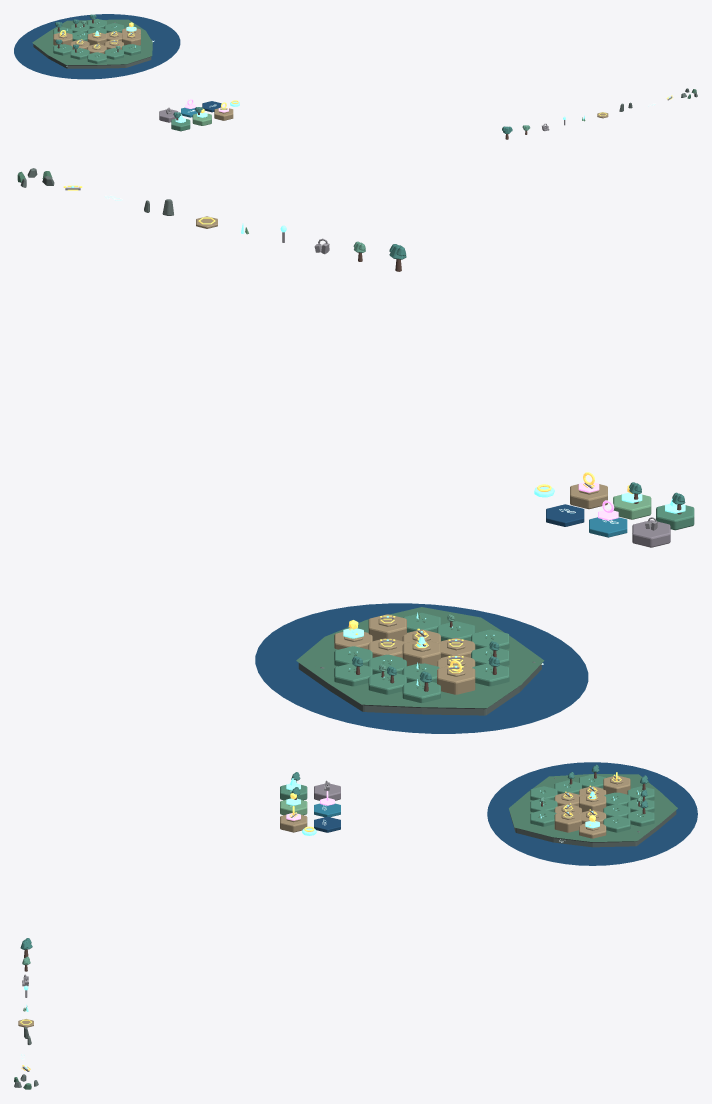
The model's file is CH01_MAP_KIT_R6.glb.
3 renders of one model, top to bottom at view 1: azimuth 30°, elevation 25°; view 2: azimuth 150°, elevation 25°; view 3: azimuth 270°, elevation 25°, orthographic. The views are drawn at different scales.
Visible parts, largest first — view 1: MAP_CONTINUOUS_TIDE, MAP_AUTHORED_ISLAND_SHELF; view 2: MAP_CONTINUOUS_TIDE, MAP_AUTHORED_ISLAND_SHELF, MAP_-2_1_ROAD; view 3: MAP_CONTINUOUS_TIDE, MAP_AUTHORED_ISLAND_SHELF.
Part boxes in pixels (x1,y1,x2,y2): MAP_CONTINUOUS_TIDE: [14, 14, 180, 79]; MAP_AUTHORED_ISLAND_SHELF: [32, 19, 152, 68]; MAP_CONTINUOUS_TIDE: [255, 603, 588, 733]; MAP_AUTHORED_ISLAND_SHELF: [296, 607, 544, 715]; MAP_-2_1_ROAD: [437, 664, 475, 694]; MAP_CONTINUOUS_TIDE: [487, 762, 697, 865]; MAP_AUTHORED_ISLAND_SHELF: [509, 774, 677, 847].
Bounding box in the file's own units: 49.6 × 2.06 × 43.48.
